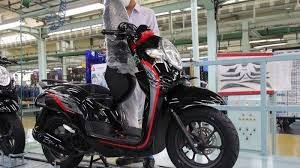motor: (35, 34, 241, 168)
